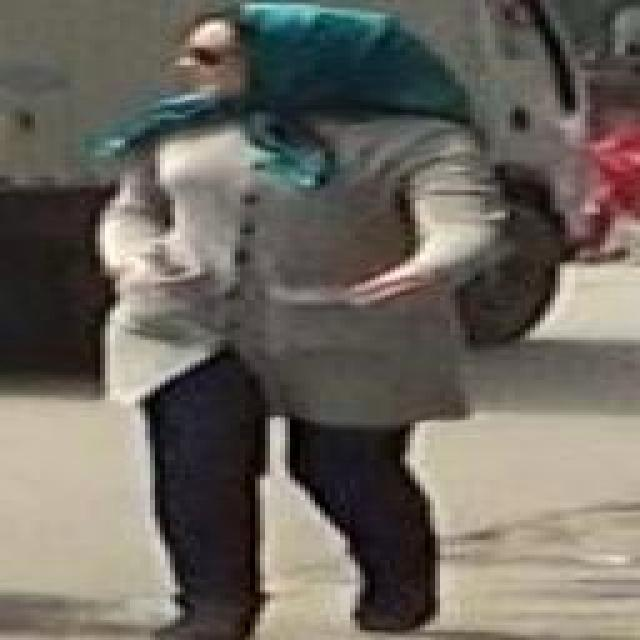adult: (99, 2, 525, 638)
